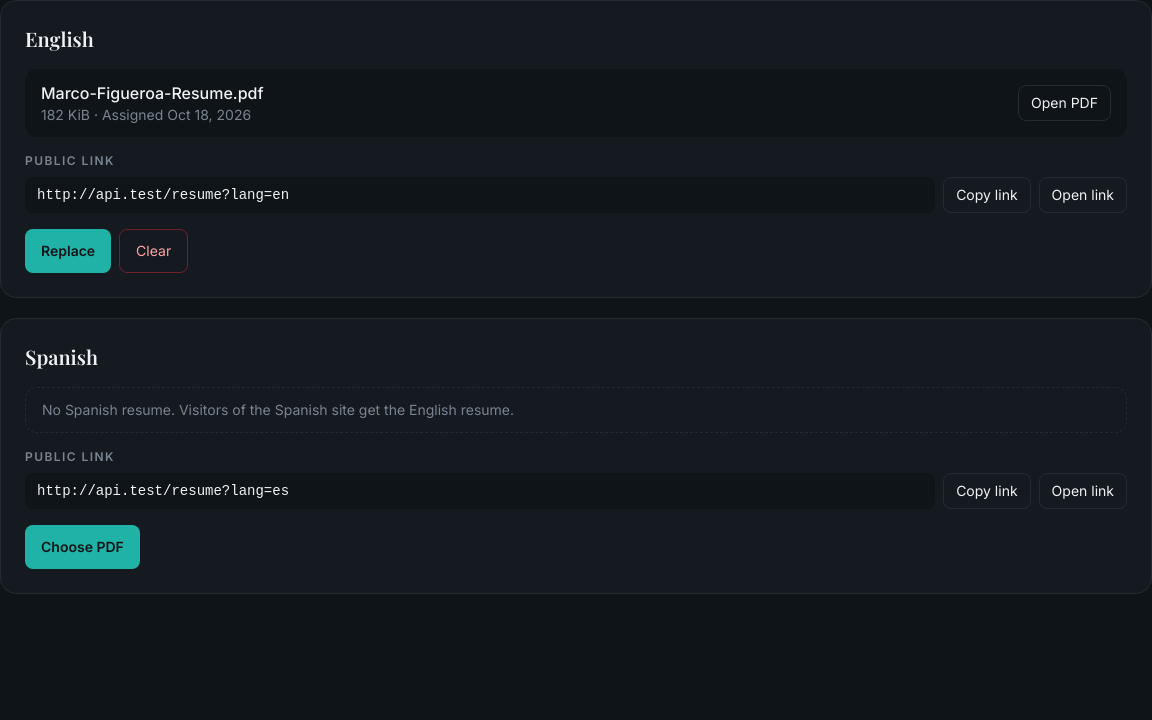
Test: ResumeManager › clearing › sends nothing when the confirmation is cancelled
Click the button "Clear": (154, 251) [119, 229, 188, 273]
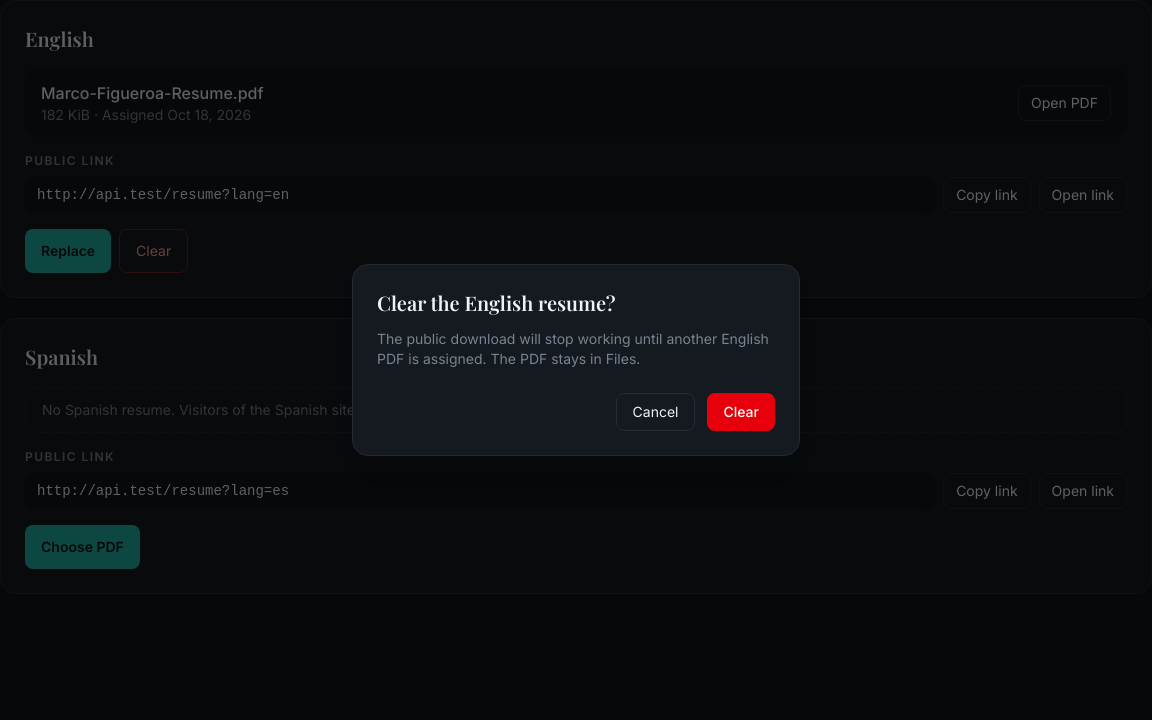
Click the button "Cancel": (655, 412) [616, 393, 695, 431]
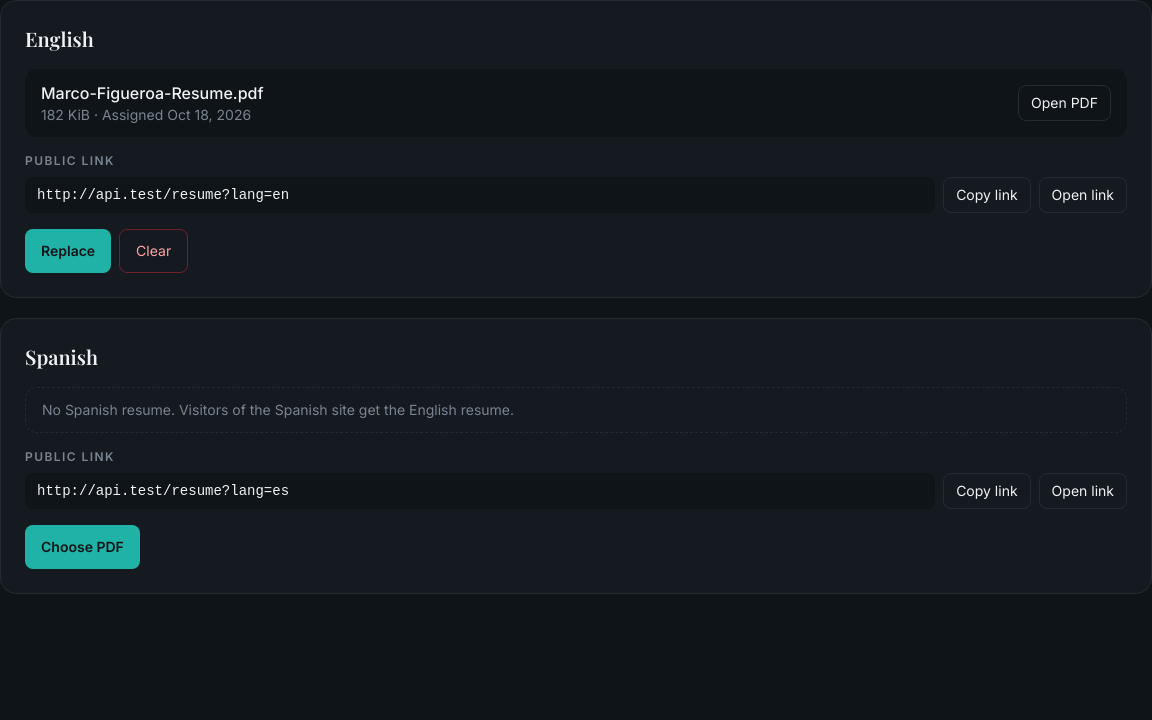
Check: the text "Marco-Figueroa-Resume.pdf" is shown, box [41, 81, 264, 105]
Check: the dialog is gone
